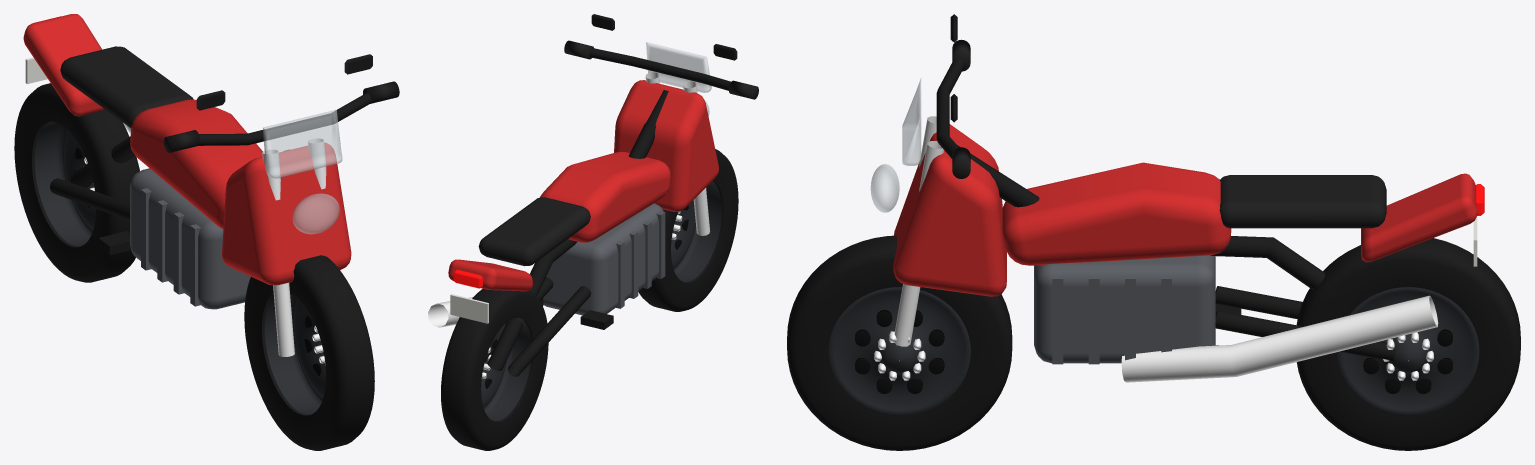
Rendered from moto.glb.
3 renders of one model, left to right at view 1: azimuth 30°, elevation 25°; view 2: azimuth 150°, elevation 25°; view 3: azimuth 270°, elevation 25°, orthographic. The views are drawn at different scales.
Visible parts, largest first — view 1: w-0.72_tire0, fairing, w0.68_tire0, tank, engine, seat, w0.68_rim, w-0.72_rim, screen, tail, bar, fork-1 (+14 smaller); view 2: w0.68_tire0, fairing, tank, engine, w-0.72_tire0, seat, w-0.72_rim, frame, w0.68_rim, tail, swing-1, screen (+12 smaller); view 3: w0.68_tire0, w-0.72_tire0, tank, engine, fairing, w-0.72_rim, exhaust, w0.68_rim, seat, tail, frame, swing1 (+9 smaller).
Boxes of the visible parts, x1,y1,x2,y2 form: w-0.72_tire0: (244, 255, 374, 450); fairing: (222, 143, 351, 285); w0.68_tire0: (14, 83, 139, 282); tank: (130, 99, 262, 228); engine: (130, 168, 250, 309); seat: (60, 46, 193, 127); w0.68_rim: (34, 121, 96, 246); w-0.72_rim: (264, 292, 325, 414); screen: (263, 110, 342, 178); tail: (23, 14, 104, 116); bar: (197, 92, 372, 145); fork-1: (262, 150, 294, 356); w0.68_tire0: (441, 289, 548, 450); fairing: (614, 80, 718, 211); tank: (540, 151, 670, 242); engine: (543, 203, 663, 315); w-0.72_tire0: (638, 149, 738, 311); seat: (478, 197, 590, 266); w-0.72_rim: (671, 181, 721, 282); frame: (487, 90, 668, 370); w0.68_rim: (481, 318, 531, 421); tail: (448, 259, 532, 291); swing-1: (507, 286, 591, 376); screen: (646, 42, 711, 92); w0.68_tire0: (1296, 238, 1520, 450); w-0.72_tire0: (787, 235, 1012, 450); tank: (1002, 162, 1231, 265); engine: (1034, 255, 1215, 363); fairing: (893, 124, 1006, 296); w-0.72_rim: (828, 287, 970, 416); exhaust: (1121, 295, 1438, 382); w0.68_rim: (1337, 287, 1479, 416); seat: (1219, 175, 1386, 228); tail: (1361, 173, 1477, 262); frame: (957, 145, 1325, 289); swing1: (1215, 310, 1395, 361).
Size of the model in its own units: 0.8 by 1.17 by 2.02.
